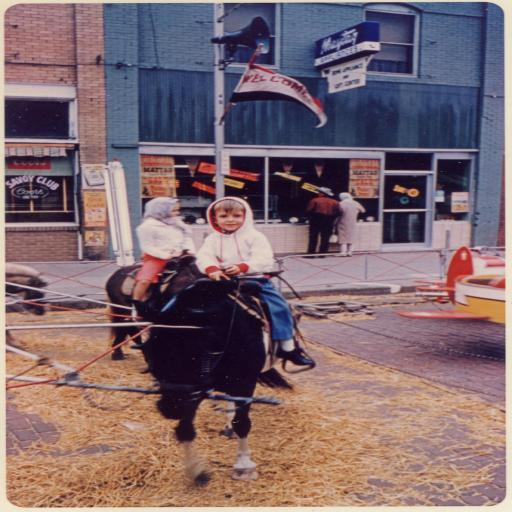horse: (138, 278, 273, 490), (104, 262, 202, 358)
